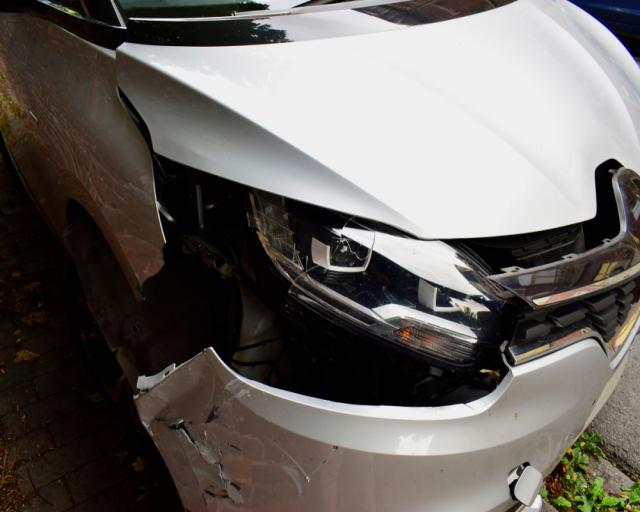crack: (167, 419, 244, 506)
lamp broken: (248, 197, 500, 364)
scratch: (154, 378, 253, 512)
